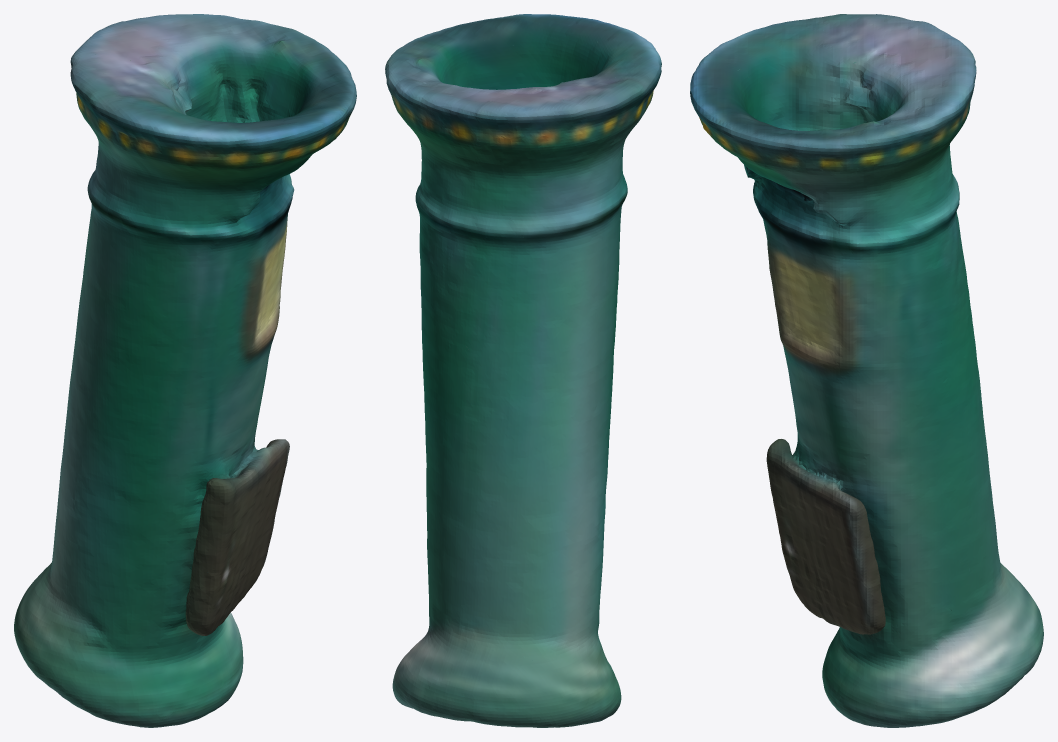
The model's file is mailbox.glb.
3 renders of one model, left to right at view 1: azimuth 30°, elevation 25°; view 2: azimuth 150°, elevation 25°; view 3: azimuth 270°, elevation 25°, orthographic. The views are drawn at different scales.
Bounding box in the file's own units: 0.6824 × 1.65 × 0.8156.
Materials: 1 (1 with a texture image).
